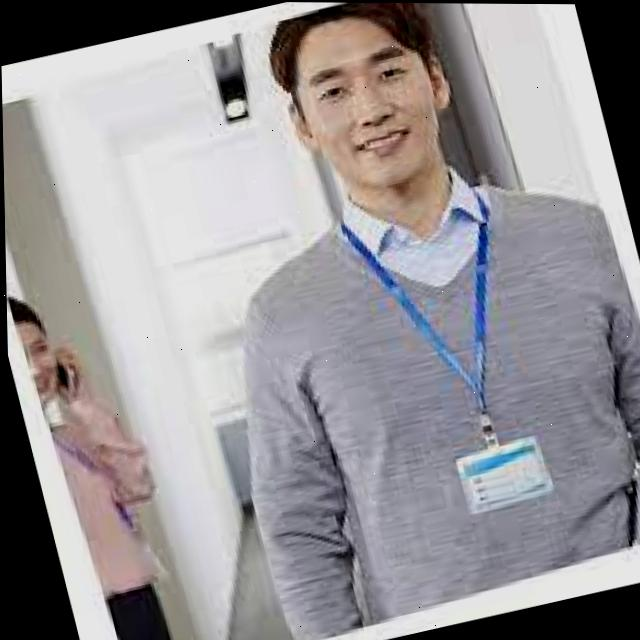id_card: (337, 173, 582, 530)
